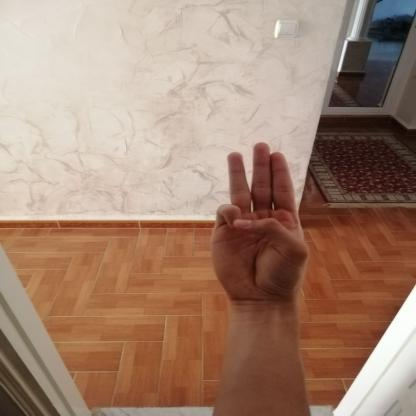THA: (194, 133, 323, 316)
